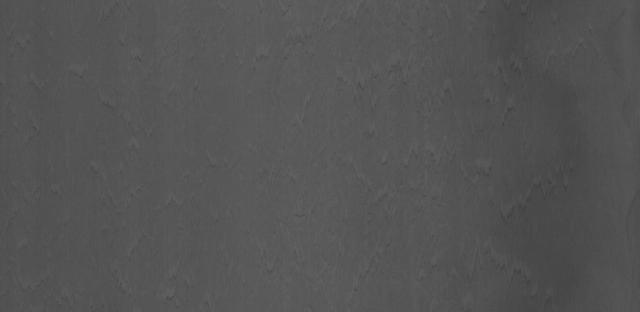silk_spot: (326, 46, 448, 236), (465, 43, 558, 234)
